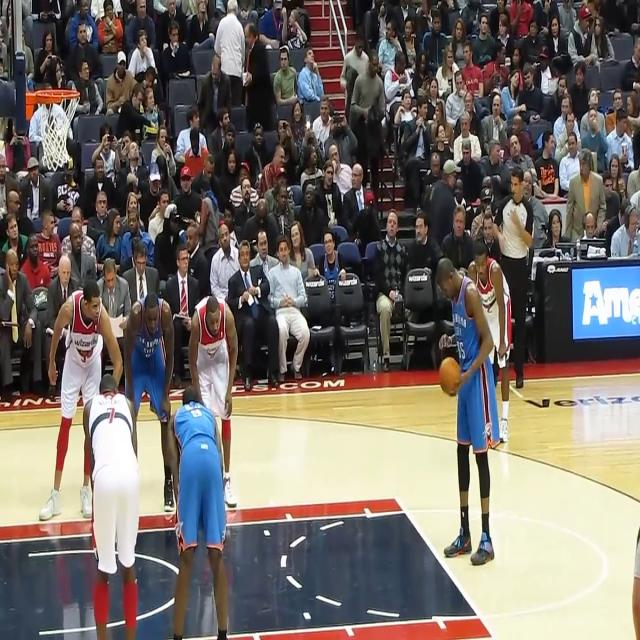ball: (439, 358, 461, 397)
